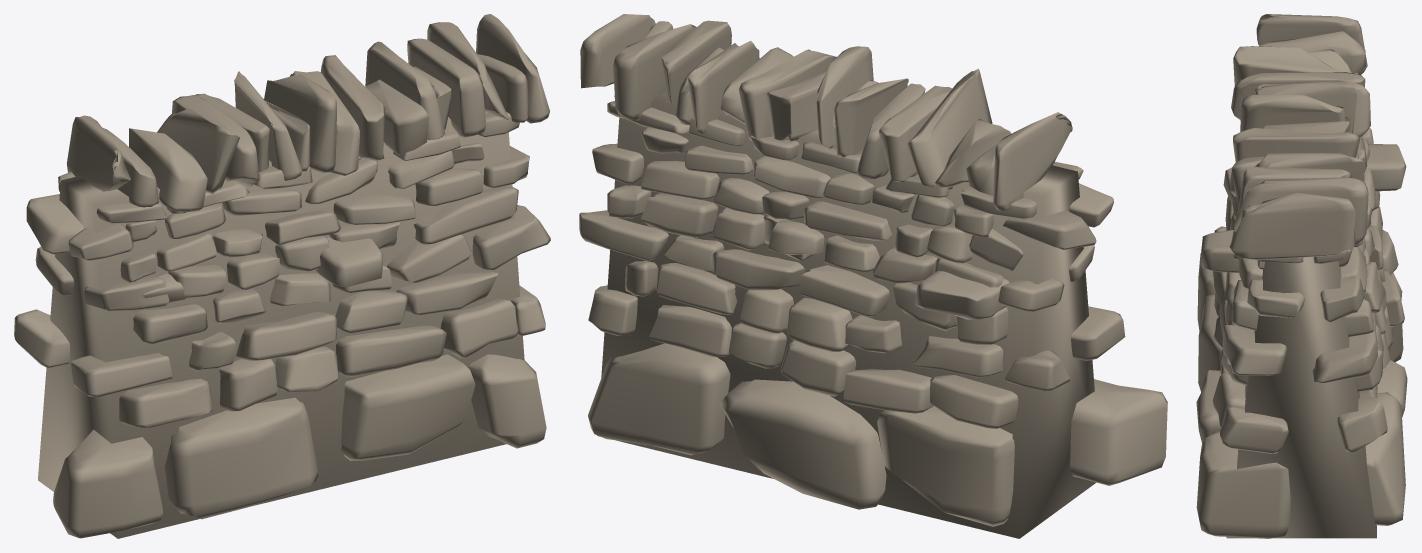
The model's file is boundary.dry_stone.wall_c.glb.
3 views of the same model, side by side, from view 1: azimuth 30°, elevation 25°; view 2: azimuth 150°, elevation 25°; view 3: azimuth 270°, elevation 25° (orthographic). The views are drawn at different scales.
Parts seen in each view (by area): view 1: main__stone_a98; view 2: main__stone_a98; view 3: main__stone_a98.
Boxes of the visible parts, box(x1,y1,x2,y2) form: main__stone_a98: box(14, 14, 550, 538); main__stone_a98: box(579, 14, 1167, 538); main__stone_a98: box(1196, 14, 1407, 538).
Size of the model in its own units: 2.38 by 1.74 by 0.9266.
